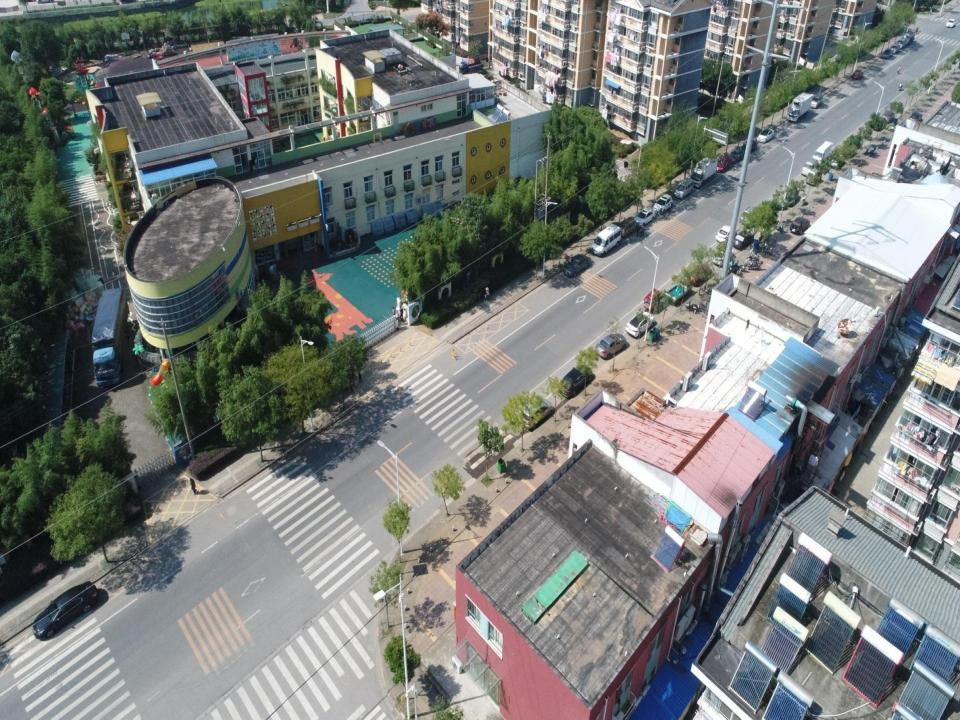car: (32, 581, 99, 642), (518, 398, 556, 432), (558, 364, 593, 399), (625, 311, 654, 339), (596, 333, 627, 359), (563, 253, 591, 277), (687, 264, 712, 286), (713, 246, 735, 266), (732, 230, 754, 250), (652, 193, 672, 214), (740, 205, 761, 225), (634, 207, 656, 226), (644, 288, 662, 311), (789, 216, 810, 234), (766, 197, 787, 214), (715, 224, 732, 243), (757, 126, 774, 144), (716, 155, 732, 174), (905, 112, 922, 128), (730, 146, 744, 165), (784, 186, 797, 206), (800, 159, 816, 175), (829, 152, 845, 167), (742, 139, 757, 154), (810, 92, 824, 108), (897, 35, 910, 50), (882, 110, 894, 124), (880, 48, 893, 60), (852, 69, 864, 81), (946, 18, 956, 29), (890, 43, 899, 54)
truck: (786, 91, 813, 122), (690, 156, 716, 187), (664, 279, 692, 306), (458, 61, 484, 75)
van: (91, 288, 129, 390), (592, 223, 622, 257), (674, 177, 694, 200), (813, 141, 832, 162), (618, 216, 636, 237), (806, 167, 822, 185), (903, 30, 916, 41)
